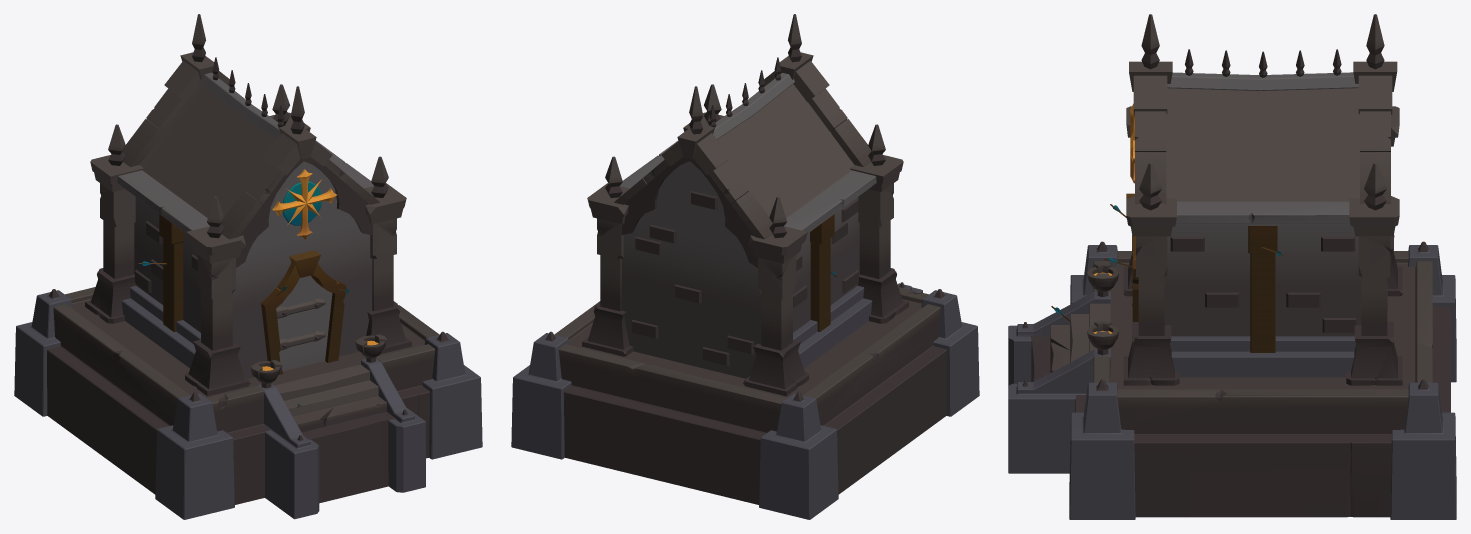
File: Crypt_01_1.fbx
3 views of the same model, side by side, from view 1: azimuth 30°, elevation 25°; view 2: azimuth 150°, elevation 25°; view 3: azimuth 270°, elevation 25° (orthographic). The views are drawn at different scales.
Parts seen in each view (by area): view 1: Crypt_01_1; view 2: Crypt_01_1; view 3: Crypt_01_1.
Boxes of the visible parts, x1,y1,x2,y2 form: Crypt_01_1: [14, 14, 482, 519]; Crypt_01_1: [511, 14, 979, 519]; Crypt_01_1: [1008, 14, 1456, 519].
Bounding box in the file's own units: 850 × 1008 × 970.
